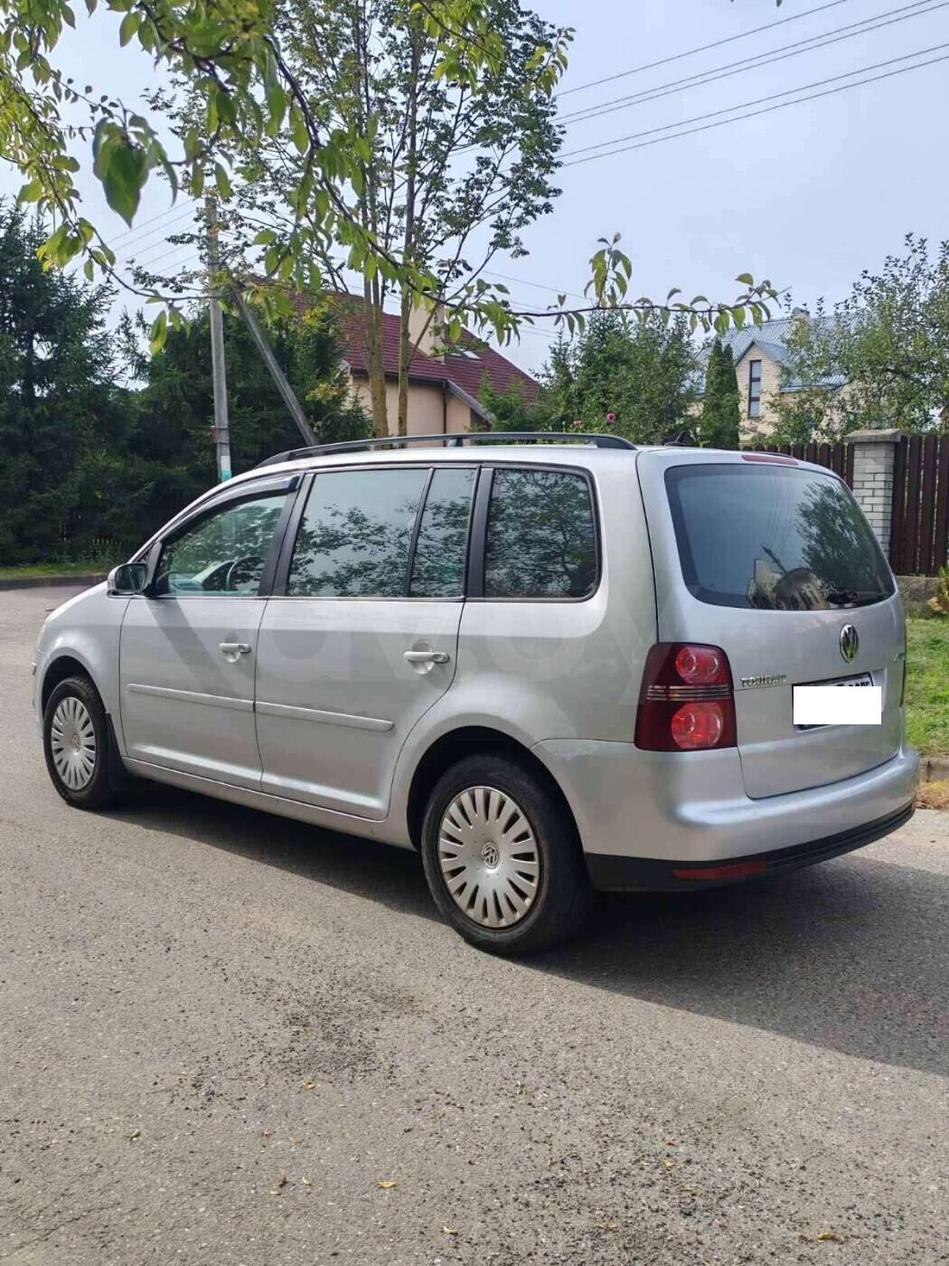Touran_2006-2010: (29, 439, 916, 942)
